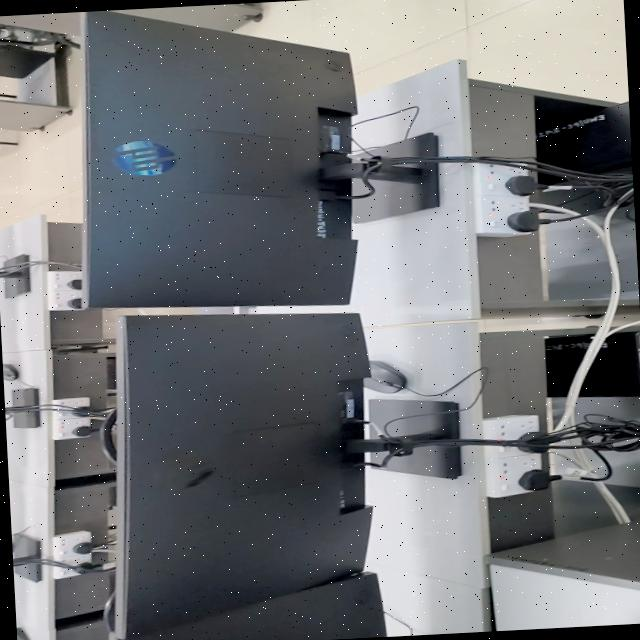Cpu: (536, 109, 632, 172), (580, 331, 640, 397), (544, 335, 591, 397)
Monitor: (115, 313, 370, 640), (82, 11, 356, 308), (123, 572, 386, 640)
Mouse: (2, 364, 18, 381)
